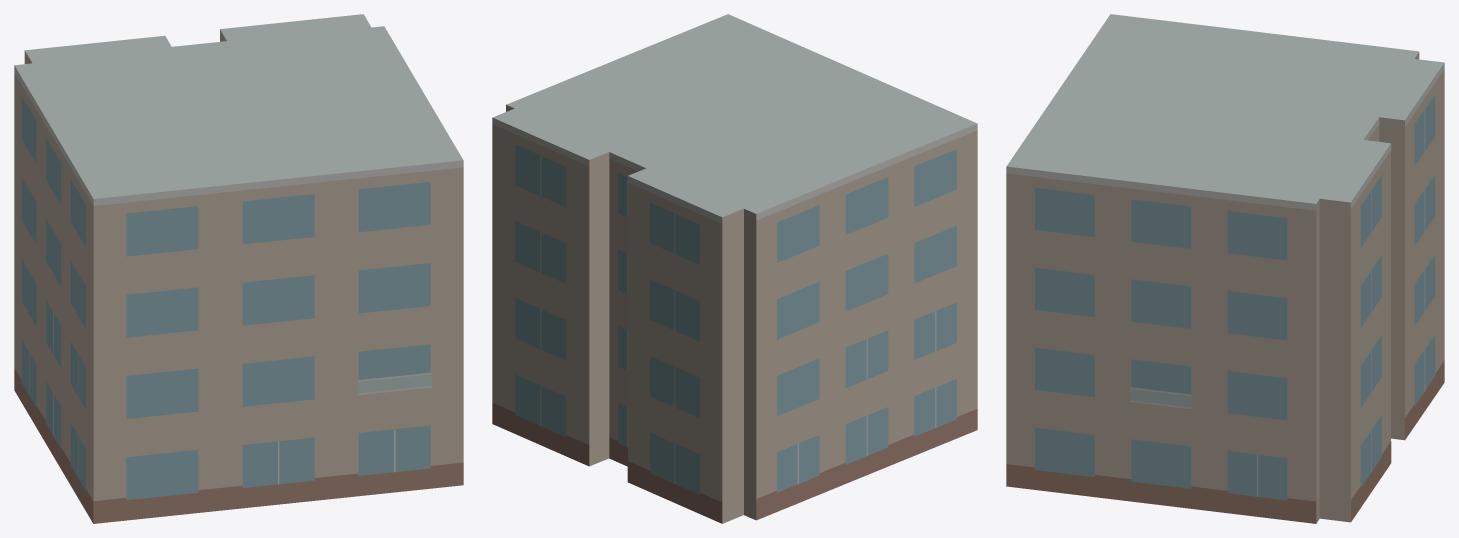
Rendered from survey-upis-32828603.glb.
3 views of the same model, side by side, from view 1: azimuth 30°, elevation 25°; view 2: azimuth 150°, elevation 25°; view 3: azimuth 270°, elevation 25° (orthographic). The views are drawn at different scales.
Parts seen in each view (by area): view 1: survey-upis-32828603.tmp; view 2: survey-upis-32828603.tmp; view 3: survey-upis-32828603.tmp.
Boxes of the visible parts, x1,y1,x2,y2 form: survey-upis-32828603.tmp: [14, 14, 463, 523]; survey-upis-32828603.tmp: [492, 14, 977, 523]; survey-upis-32828603.tmp: [1006, 14, 1444, 523].
Size of the model in its own units: 14.4 by 11.3 by 14.04.
